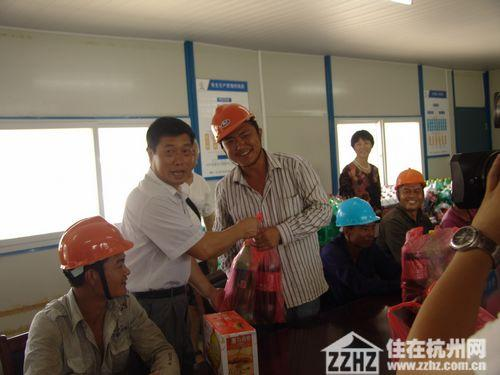helmet: (60, 215, 136, 272), (211, 103, 255, 144), (336, 198, 381, 229), (394, 169, 429, 192)
